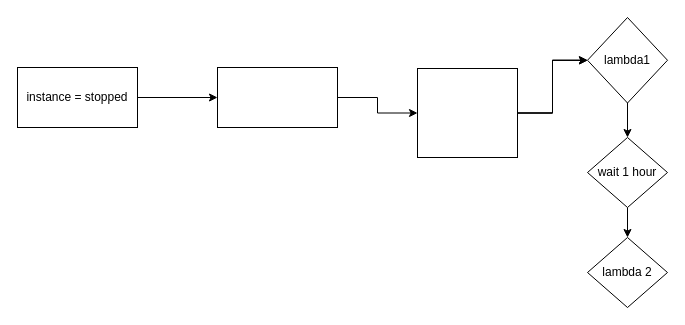
The diagram is 685 pixels wide and 325 high, and some of its shapes have lost their labels. Each missing label, with the box of its shape:
Event Bridge: (216, 66, 338, 128)
Step Function: (416, 68, 518, 158)
